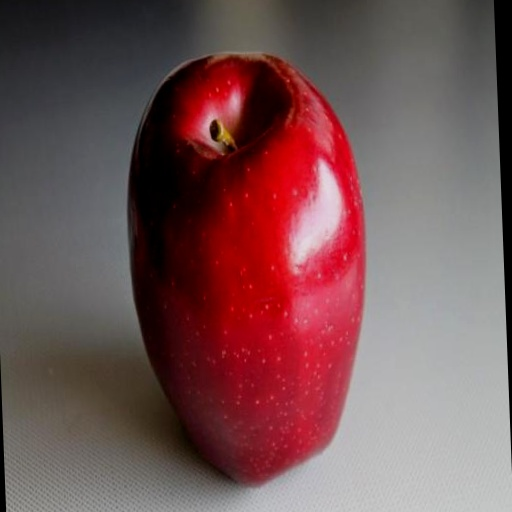fruit: (129, 54, 365, 484)
